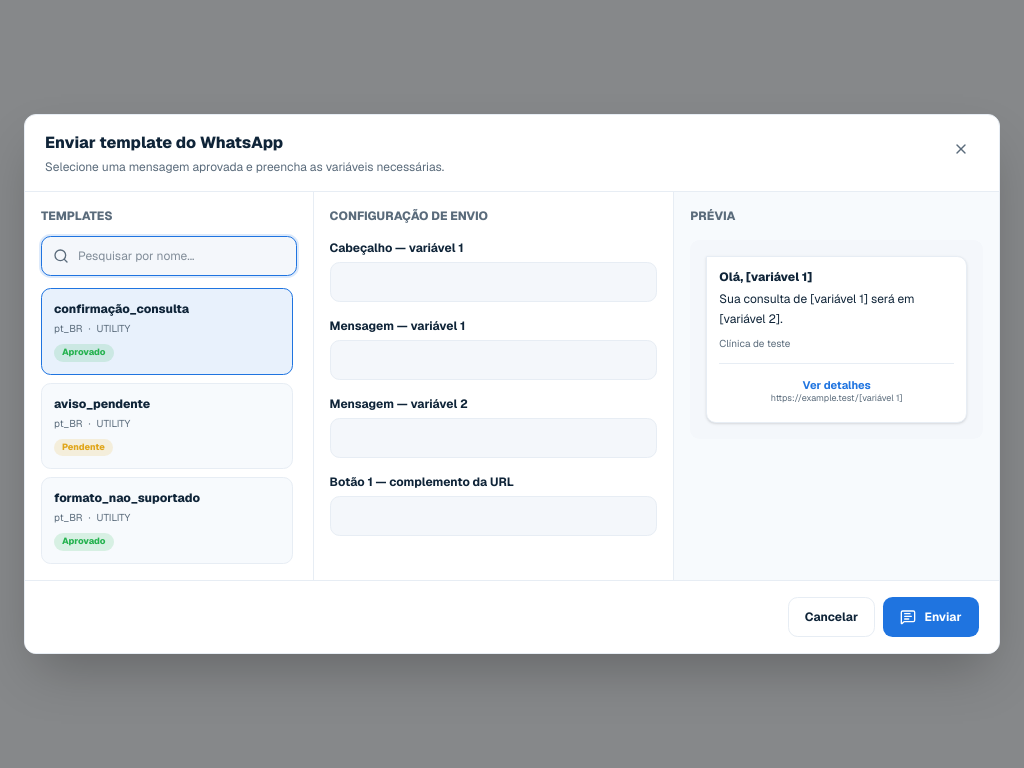
Test: WhatsappTemplateDialog › should_show_status_and_reason_for_templates_that_cannot_be_sent
The image size is (1024, 768).
Expected: the text "confirmação_consulta" is shown, [54,301,189,317]
Click the button "aviso_pendente pt_BR · UTILITY Pendente": (167, 426) [41,383,293,469]
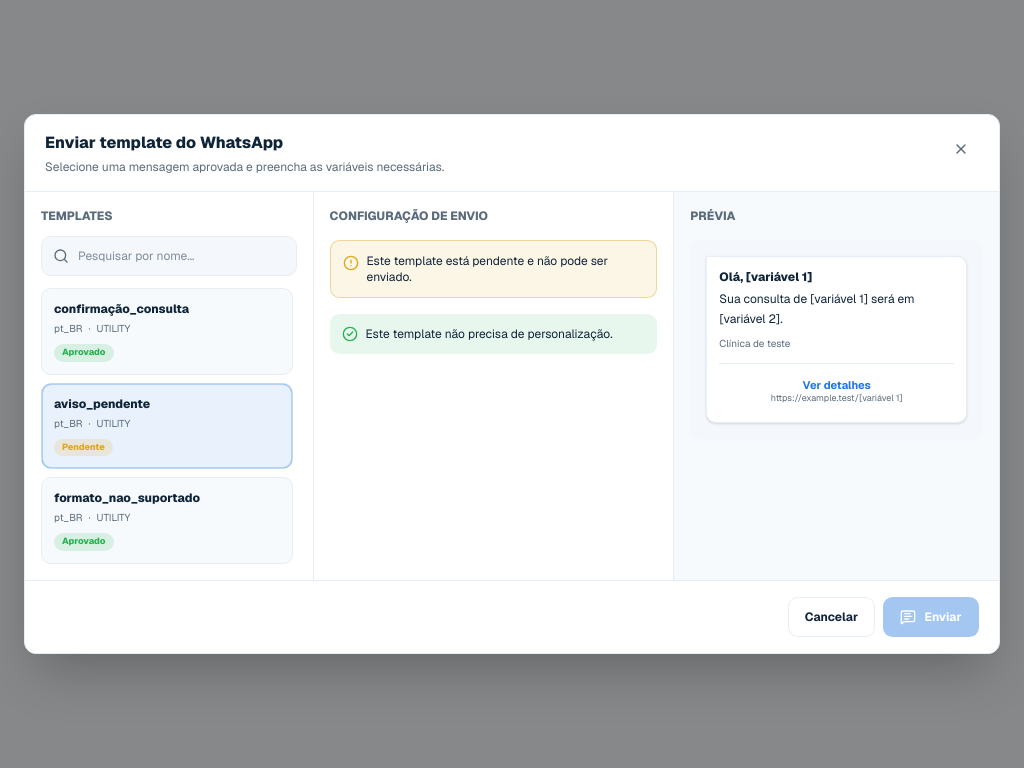
Expected: the text "Este template está pendente e não pode ser enviado." is shown, [367,253,644,285]
Expected: the button "Enviar" is disabled, [883,597,979,637]
Click the button "formato_nao_suportado pt_BR · UTILITY Aprovado": (167, 521) [41,477,293,564]
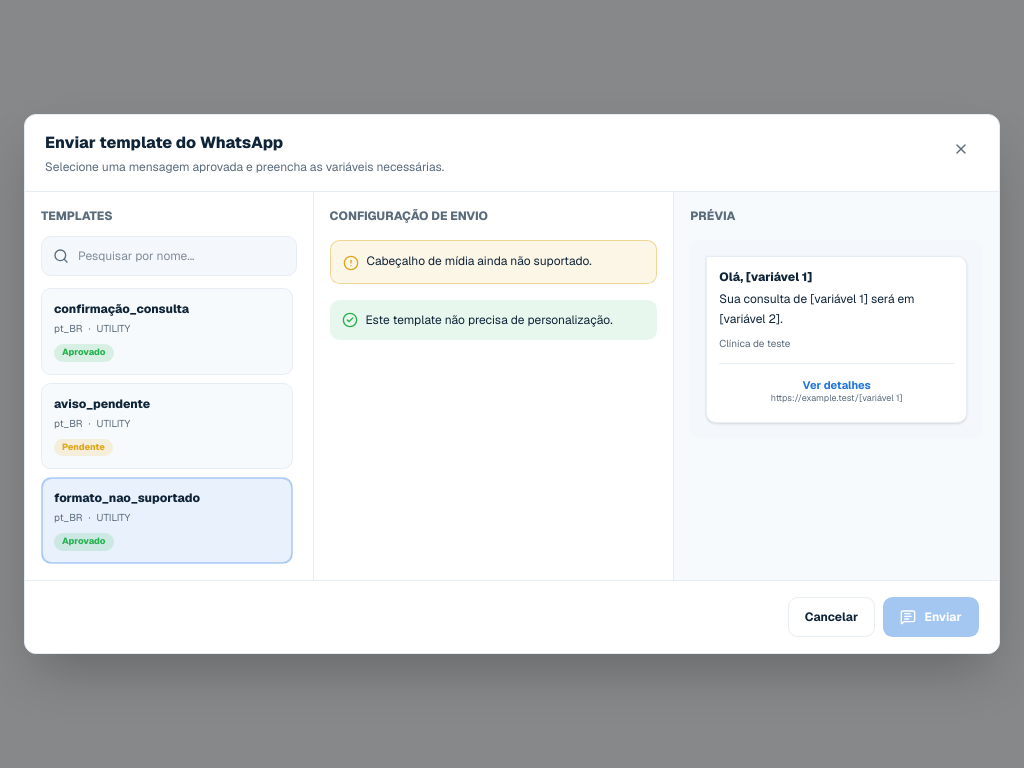
Expected: the button "Enviar" is disabled, [883,597,979,637]
Expected: the text "Cabeçalho de mídia ainda não suportado." is shown, [367,253,592,271]
